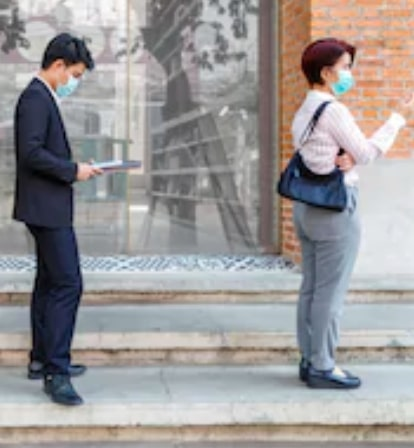Caution: (15, 32, 369, 404)
